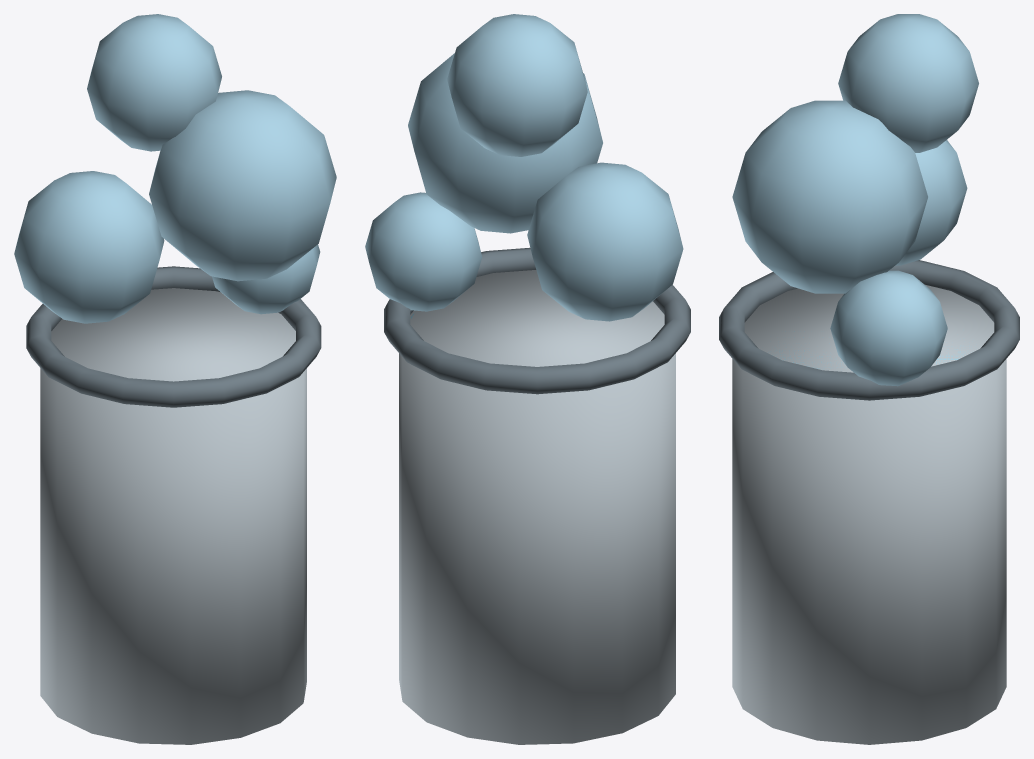
File: nitrogen.glb
The picture shows the model from 3 angles, left to right: view 1: azimuth 30°, elevation 25°; view 2: azimuth 150°, elevation 25°; view 3: azimuth 270°, elevation 25°; orthographic projection. The views are drawn at different scales.
Parts seen in each view (by area): view 1: nitrogen; view 2: nitrogen; view 3: nitrogen.
Boxes of the visible parts, x1,y1,x2,y2 form: nitrogen: (14, 14, 336, 744); nitrogen: (365, 14, 690, 744); nitrogen: (719, 14, 1019, 744).
Bounding box in the file's own units: 0.1716 × 0.376 × 0.1536.
